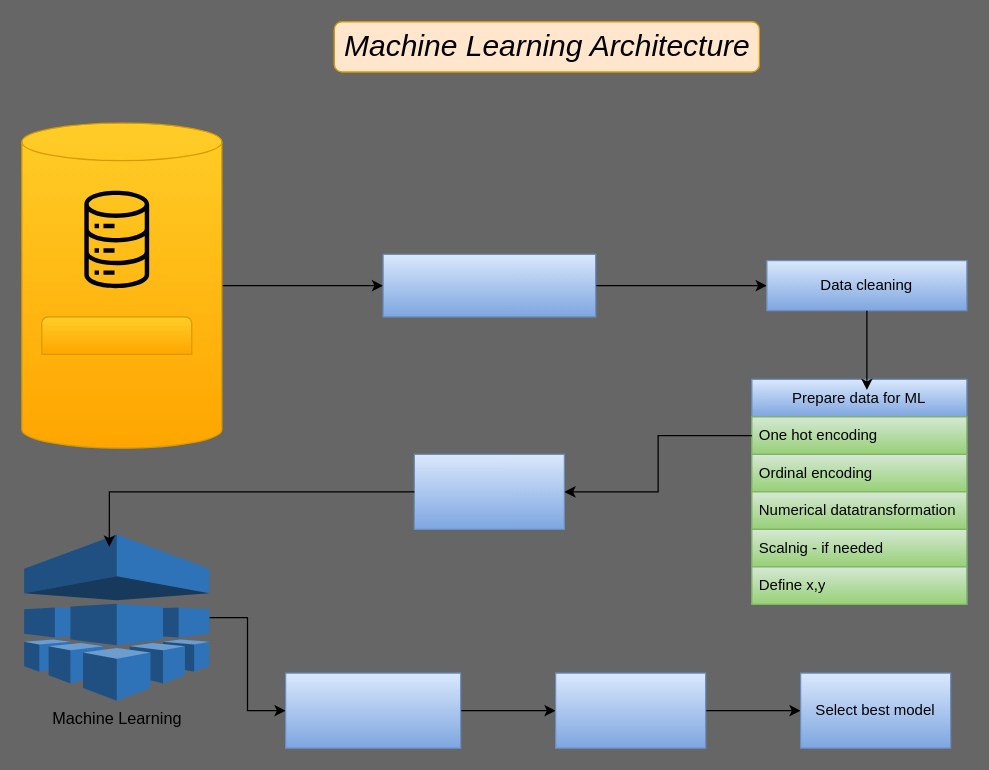
Some shapes in this 989 by 770 pixel diagram are drawn without their labels. The centre of each missing label's shape, as x and y in pixels:
"Apply Cross validation to find the best model" goes at (372,710).
"Import data from View table" goes at (489,285).
"Split data into train and test data" goes at (488,491).
"Using MLflow to track and select the best model" goes at (630,710).
"View Table" goes at (116,335).
